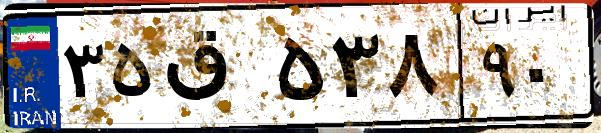0: (525, 38, 570, 115)
3: (330, 28, 385, 110), (57, 26, 110, 100)
5: (270, 28, 330, 110), (110, 28, 158, 98)
8: (385, 28, 445, 110)
9: (475, 38, 525, 113)
ق: (158, 20, 270, 120)
